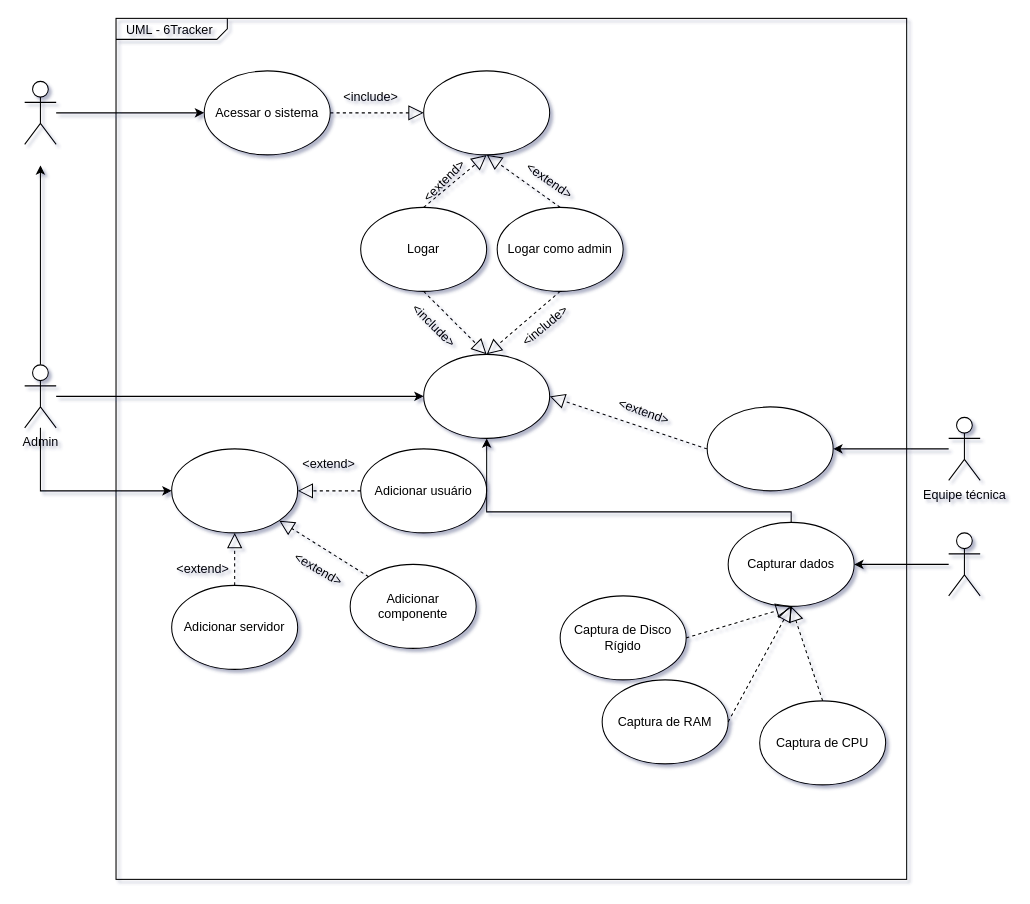
Some shapes in this 1030 by 904 pixel diagram are drawn without their labels. The box of each missing label's shape, as (x1, y1, x2, y2) in pixels:
Abrir chamado: (706, 406, 833, 491)
Adicionar sala: (171, 448, 298, 533)
Analista: (24, 80, 56, 144)
Cadastrar: (423, 70, 550, 155)
Script kotlin e python: (948, 532, 980, 596)
Ver dashboards: (423, 353, 550, 438)
